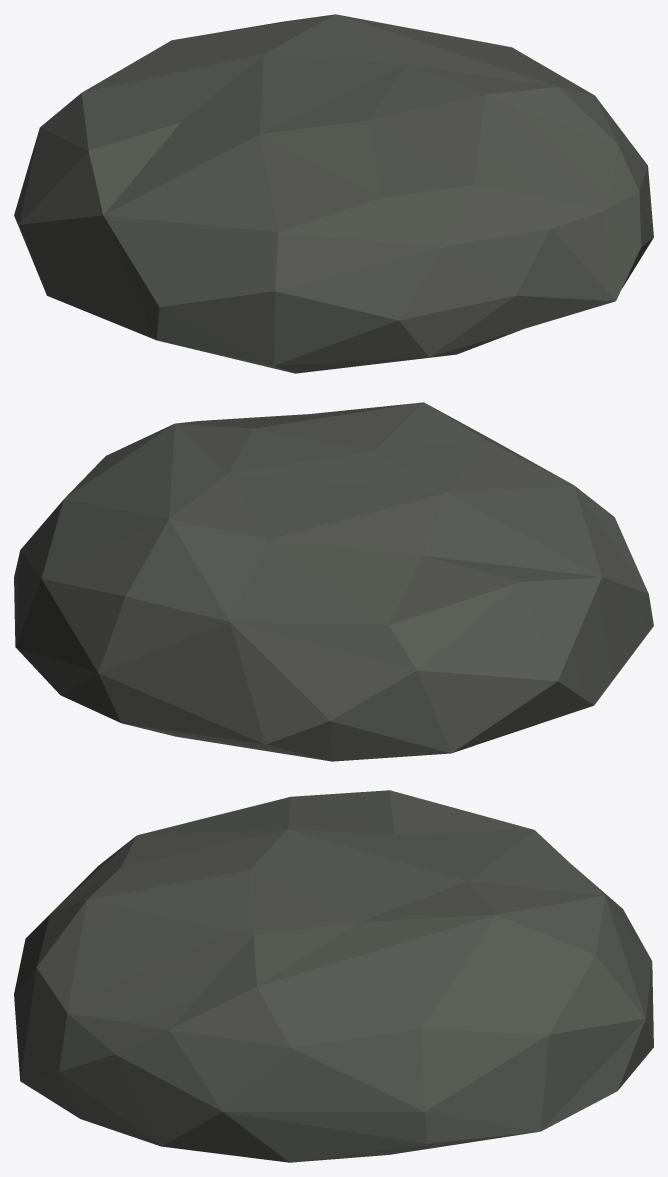
File: S_Rock_05.fbx
The picture shows the model from 3 angles, top to bottom: view 1: azimuth 30°, elevation 25°; view 2: azimuth 150°, elevation 25°; view 3: azimuth 270°, elevation 25°; orthographic projection. The views are drawn at different scales.
Parts seen in each view (by area): view 1: S_Rock_05; view 2: S_Rock_05; view 3: S_Rock_05.
Boxes of the visible parts, x1,y1,x2,y2 form: S_Rock_05: [14, 14, 653, 373]; S_Rock_05: [14, 402, 653, 761]; S_Rock_05: [14, 790, 653, 1162].
Size of the model in its own units: 142 by 45.4 by 139.
Materials: 1 (1 with a texture image).
